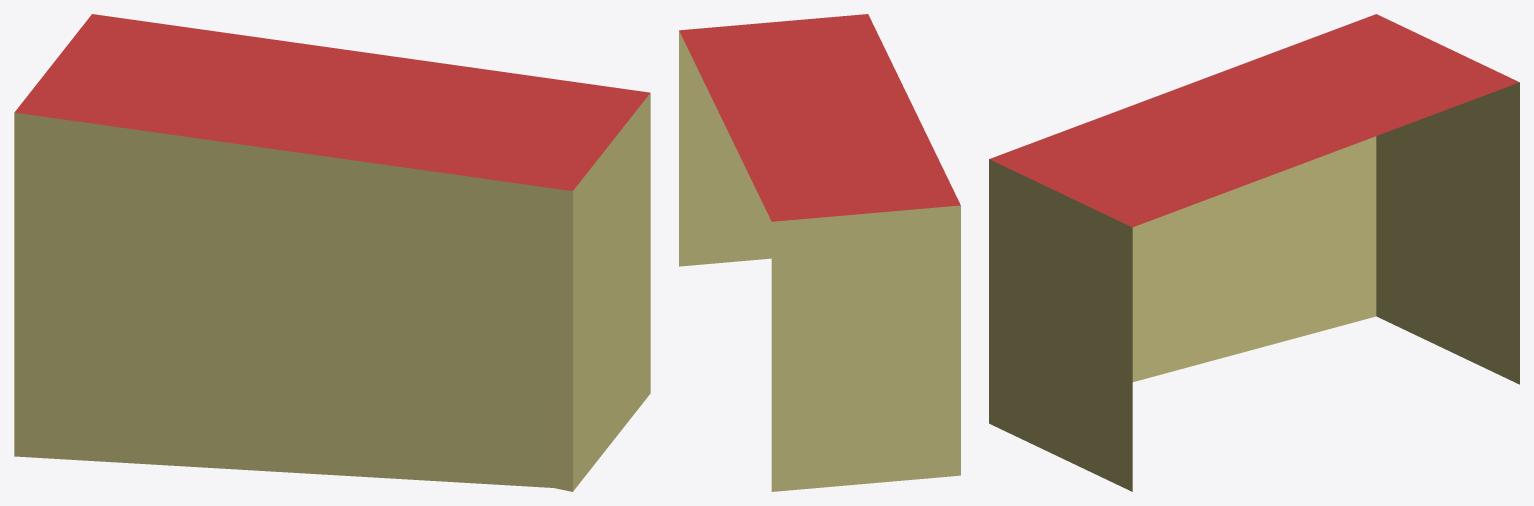
3 views of the same model, side by side, from view 1: azimuth 30°, elevation 25°; view 2: azimuth 150°, elevation 25°; view 3: azimuth 270°, elevation 25° (orthographic). The views are drawn at different scales.
Bounding box in the file's own units: 7.4 × 7.77 × 4.89.
